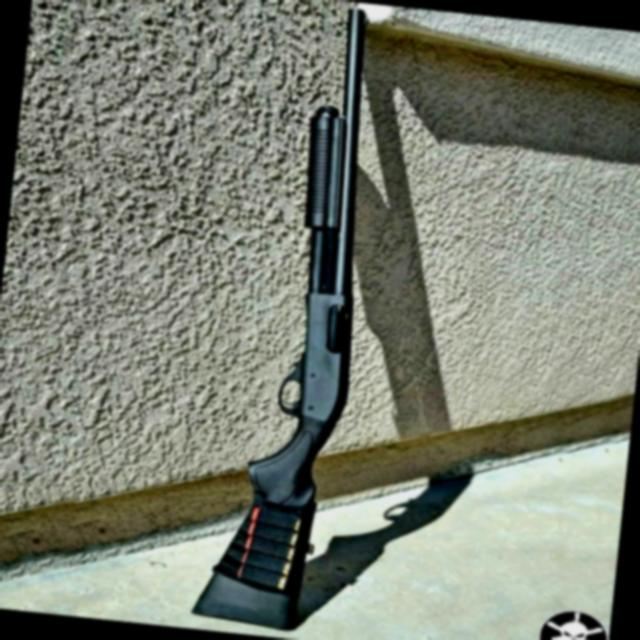shotgun: (183, 0, 383, 624)
